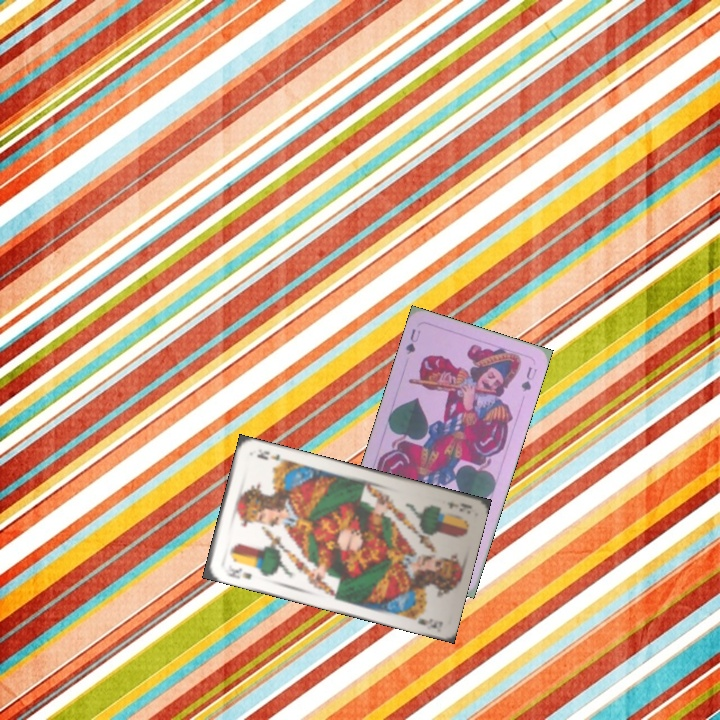EK: (219, 561, 254, 582), (443, 498, 473, 514)
GU: (402, 325, 423, 357)
